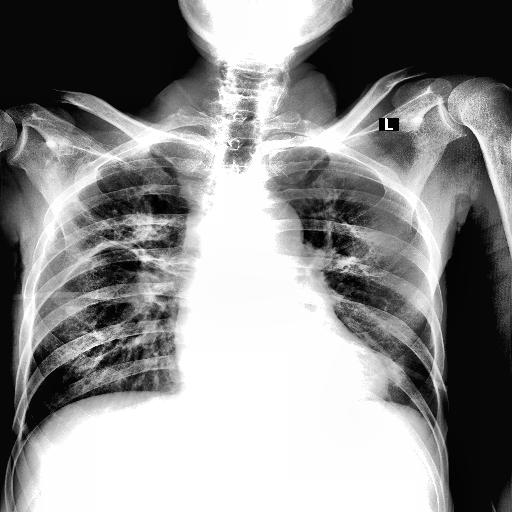0- Aortic enlargement: (252, 194, 304, 260)
13- Pulmonary fibrosis: (56, 174, 188, 302), (66, 182, 200, 280), (66, 172, 162, 292), (313, 186, 381, 252), (329, 206, 384, 254)
3- Cardiomegaly: (174, 348, 390, 408)
6- Infiltration: (66, 182, 200, 280), (106, 210, 172, 240)
7- Lung Opacity: (106, 210, 172, 240)
